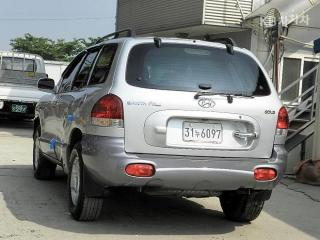0: (206, 129, 211, 138)
1: (190, 127, 195, 138)
3: (185, 127, 190, 138)
6: (201, 128, 206, 139)
7: (216, 129, 221, 139)
9: (211, 128, 216, 139)
plate: (179, 118, 226, 145)
누: (194, 129, 201, 139)
